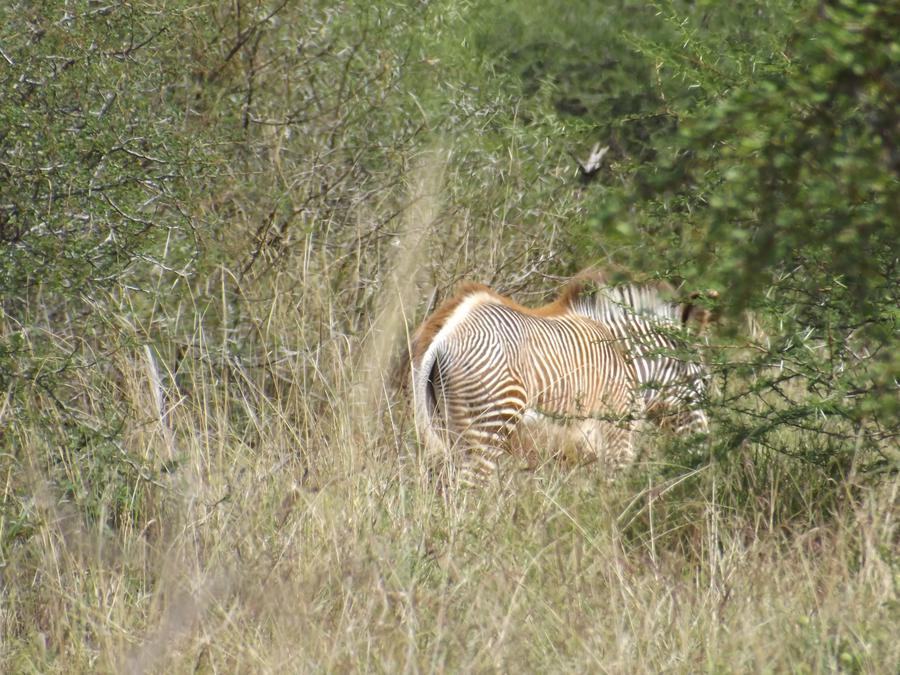zebra_grevys: (395, 268, 644, 452)
